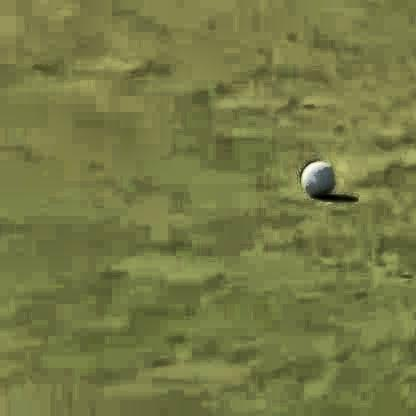golfball: (296, 151, 332, 193)
